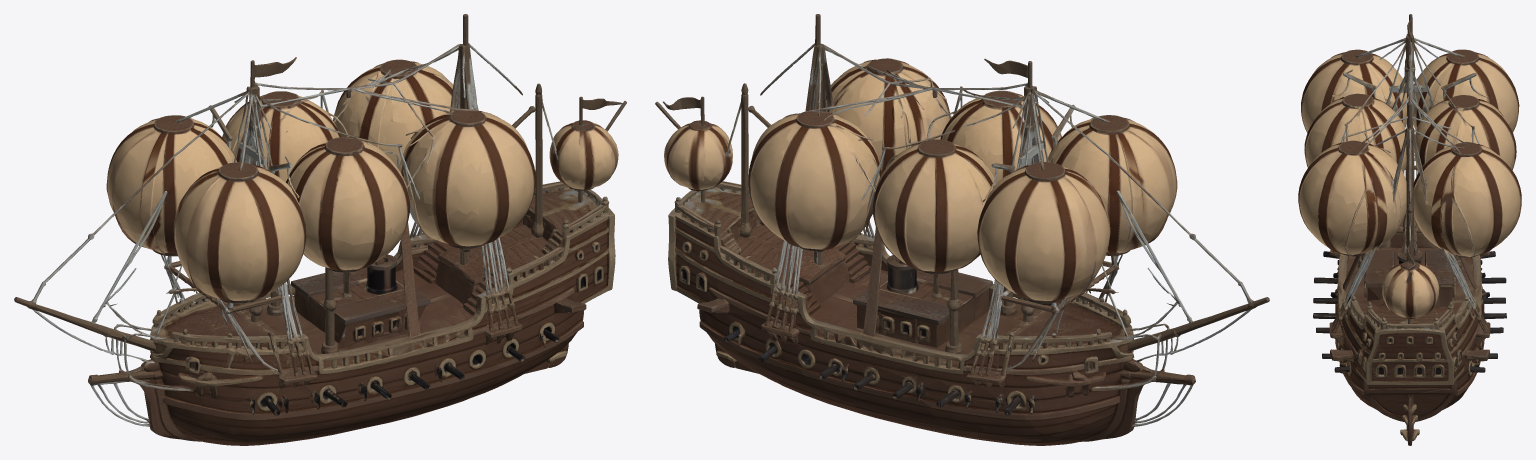
The picture shows the model from 3 angles, left to right: view 1: azimuth 30°, elevation 25°; view 2: azimuth 150°, elevation 25°; view 3: azimuth 270°, elevation 25°; orthographic projection. The views are drawn at different scales.
Parts seen in each view (by area): view 1: Mesh_0; view 2: Mesh_0; view 3: Mesh_0.
Boxes of the visible parts, left/top/right/bottom form: Mesh_0: left=14, top=14, right=626, bottom=445; Mesh_0: left=655, top=14, right=1269, bottom=445; Mesh_0: left=1298, top=14, right=1521, bottom=445.
Bounding box in the file's own units: 1.9 × 1.12 × 0.733.
Materials: 1 (1 with a texture image).
